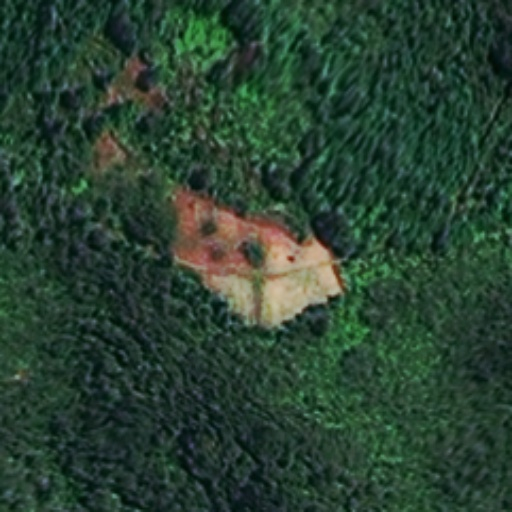landslide: (166, 178, 346, 325)
